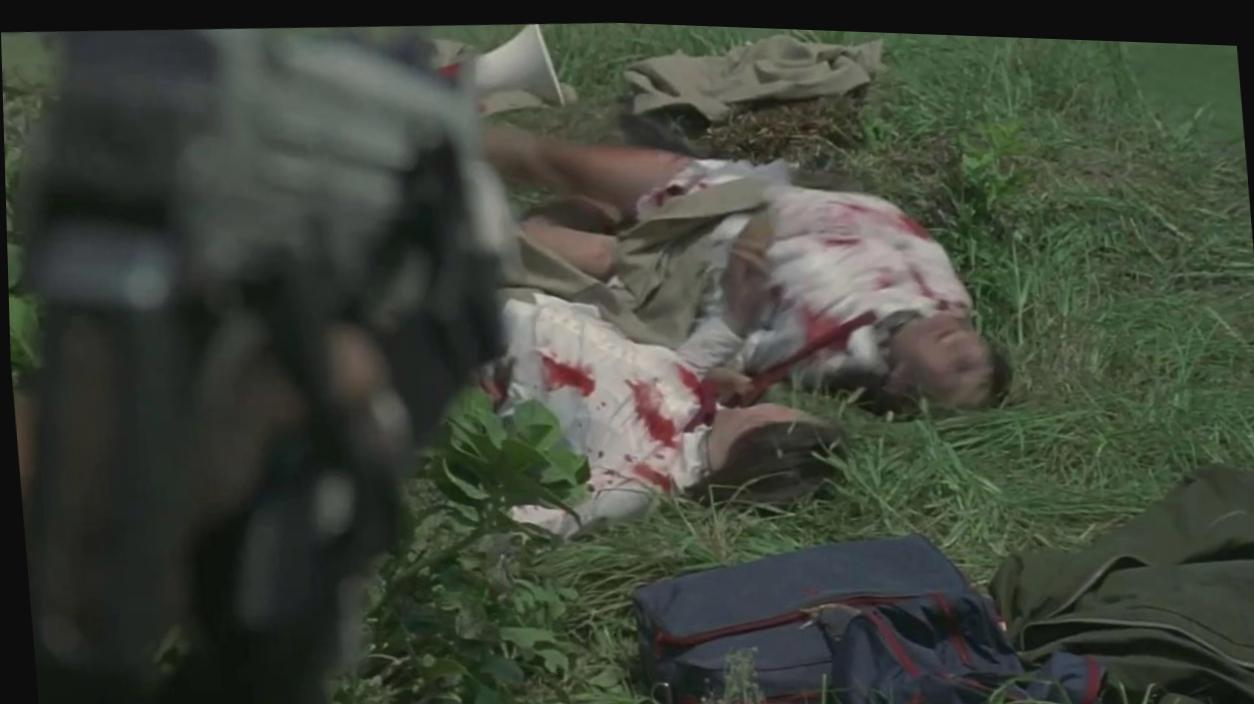Fire: (500, 289, 810, 529), (734, 179, 939, 265), (740, 302, 936, 368)
